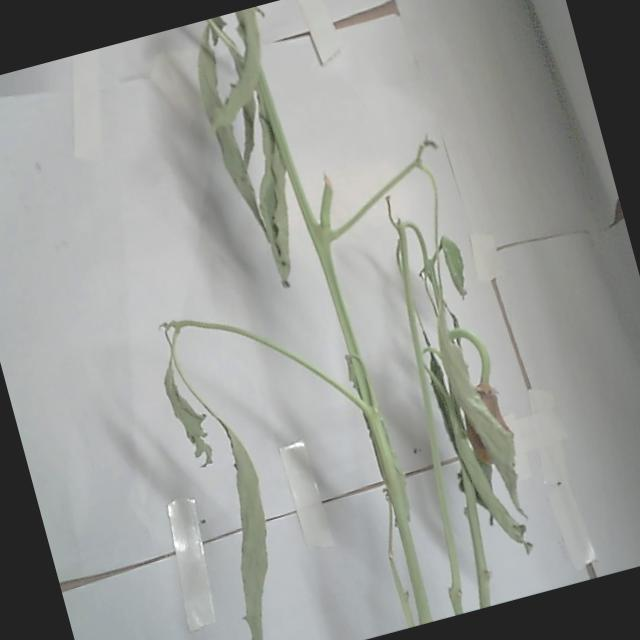Leaf: (185, 401, 304, 640), (417, 331, 533, 563), (229, 94, 316, 284), (150, 328, 218, 469)
